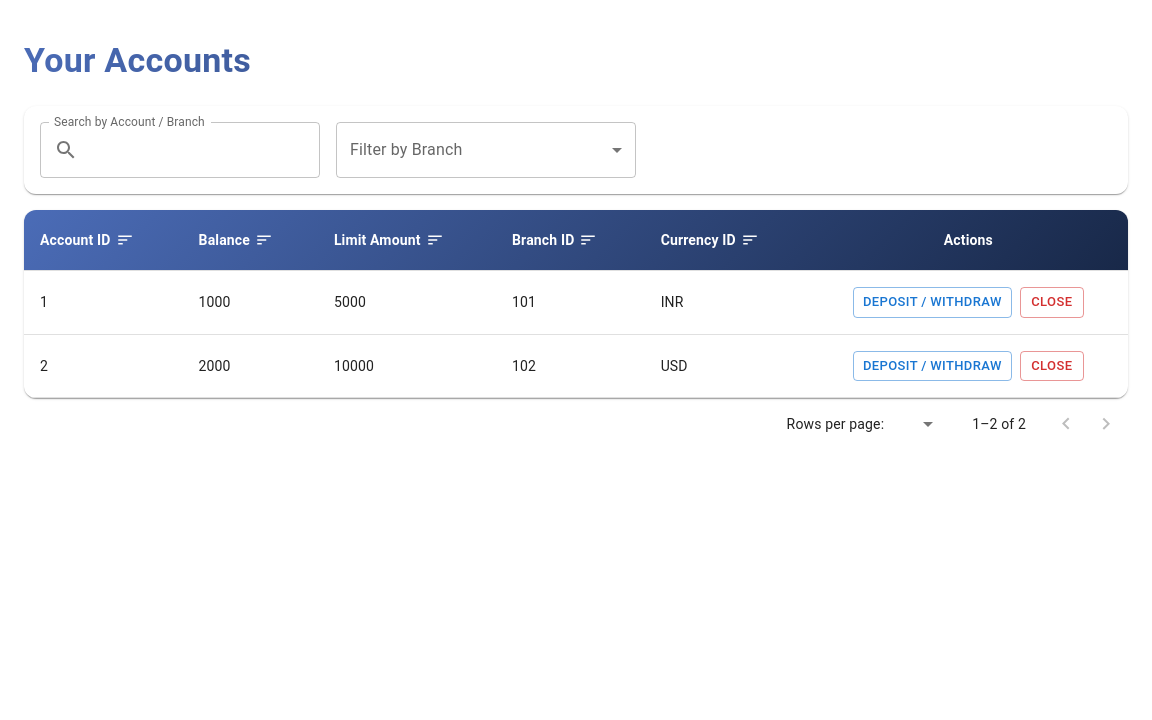
Accounts Component › opens Deposit/Withdraw modal when button clicked
Step 1. Click the button "Deposit / Withdraw" in the row of "5000" → [932, 302], box [853,287,1012,318]
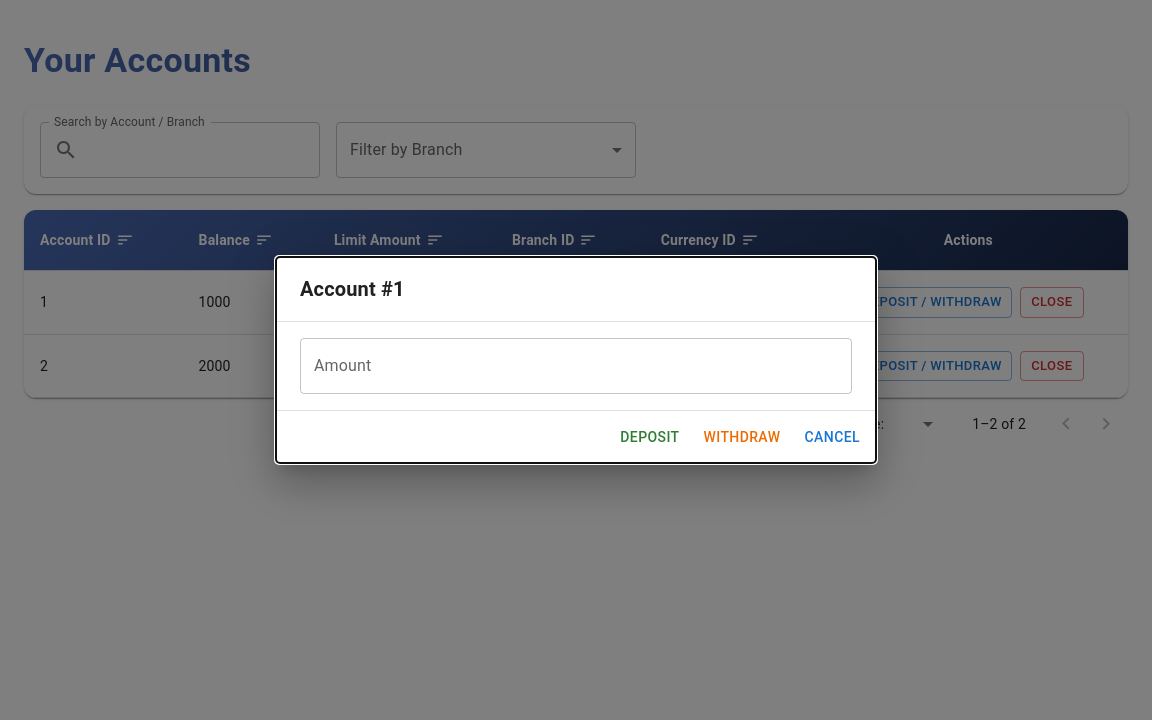
Expected: the number field labelled "Amount" is shown, [300,338,852,394]
